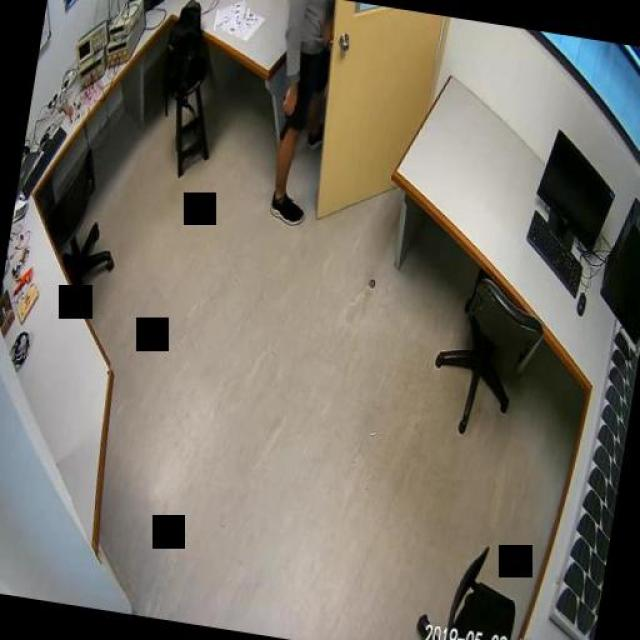gun: (275, 92, 297, 140)
